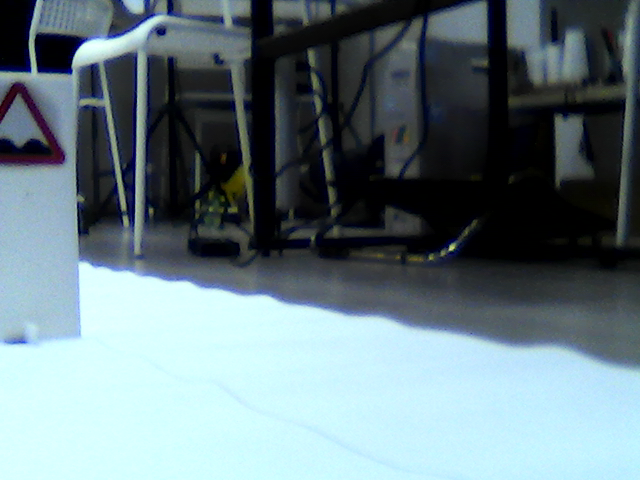Nerov: (1, 80, 68, 169)
